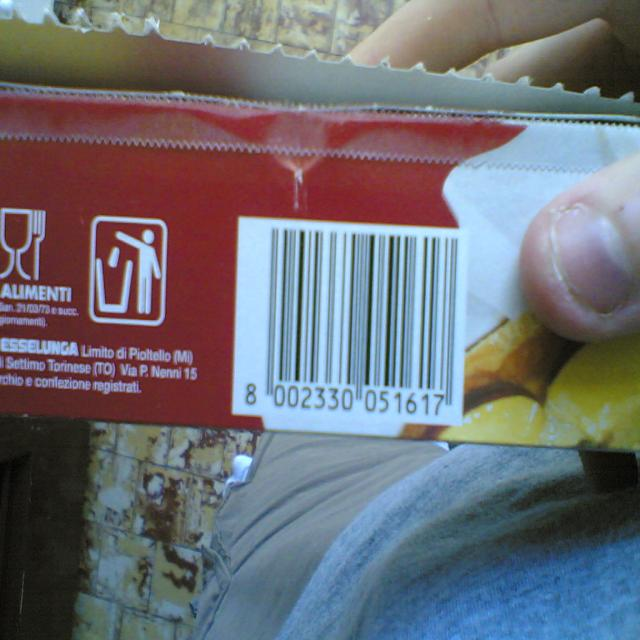barcode: (232, 217, 466, 436), (0, 417, 90, 638)
